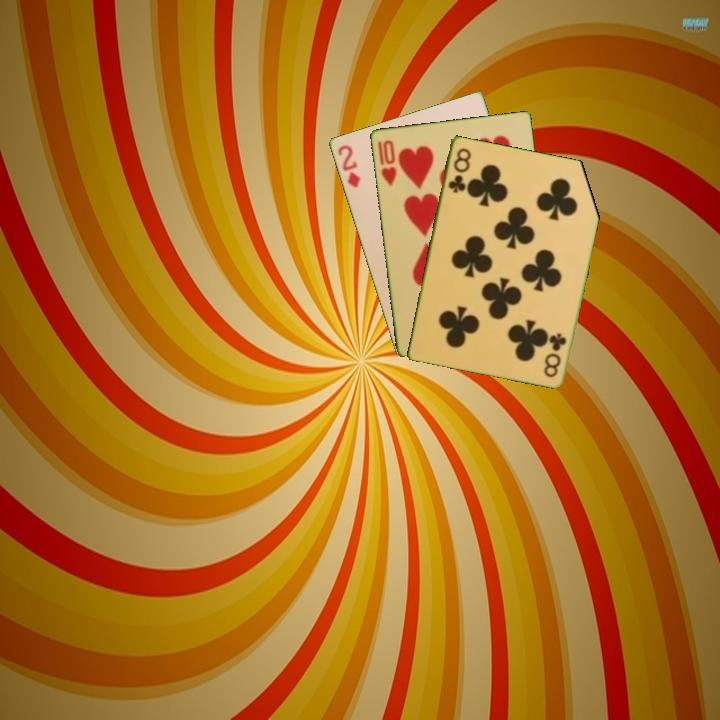10h: (377, 136, 399, 189)
2d: (334, 141, 363, 191)
8c: (444, 144, 474, 196), (541, 329, 569, 380)
